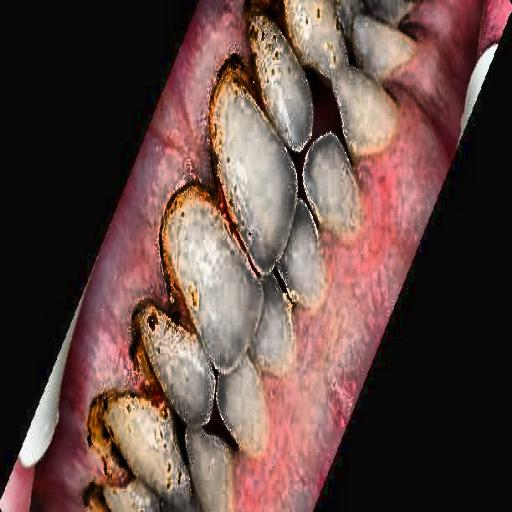Calculus: (83, 273, 191, 509), (214, 5, 308, 168), (157, 128, 238, 303)
